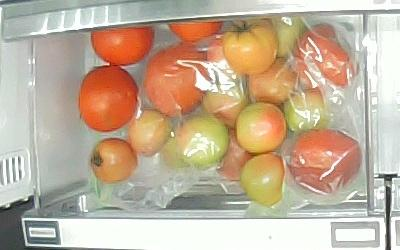tomato: (79, 65, 139, 132), (224, 19, 279, 75), (240, 152, 285, 207), (90, 28, 156, 64), (125, 109, 172, 156), (215, 128, 254, 184), (88, 137, 135, 182), (166, 19, 225, 44)
tomato_vinyl: (287, 128, 363, 195), (142, 42, 208, 116), (291, 23, 355, 88), (164, 114, 230, 171), (236, 101, 286, 153), (246, 56, 298, 103), (282, 87, 331, 132), (201, 81, 246, 129)
